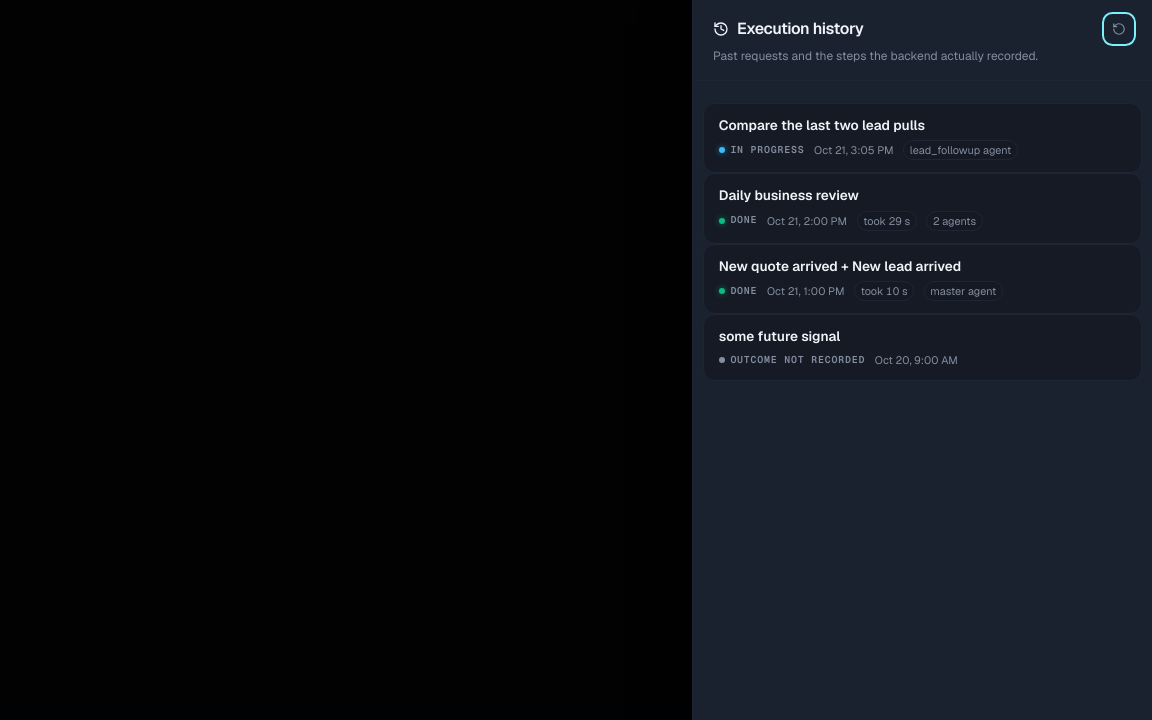
Test: HistoryDrawer › replays a selected task's persisted events and labels it as history
Click the text "Compare the last two lead pulls".
click(822, 125)  # box [719,116,925,135]
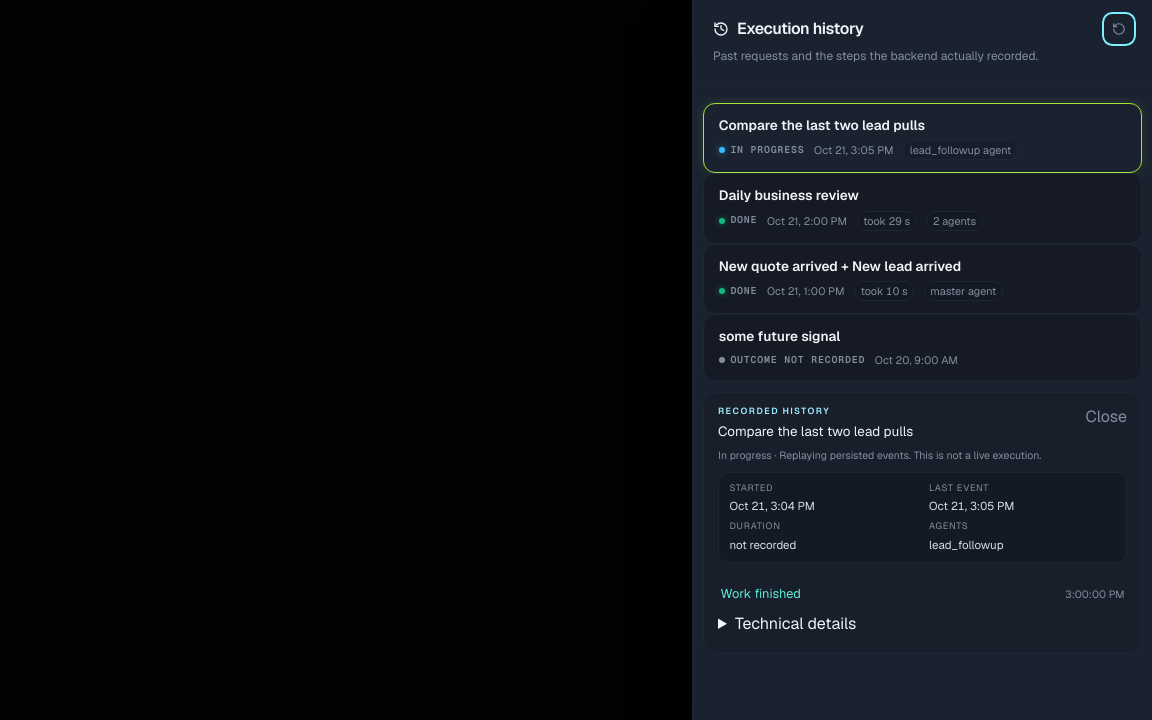
expect the text "Recorded history" is shown: met, box [718,405,830,417]
expect the text "not a live execution" is shown: met, box [772,448,1042,462]
expect the text "Work finished" is shown: met, box [720,585,801,604]
